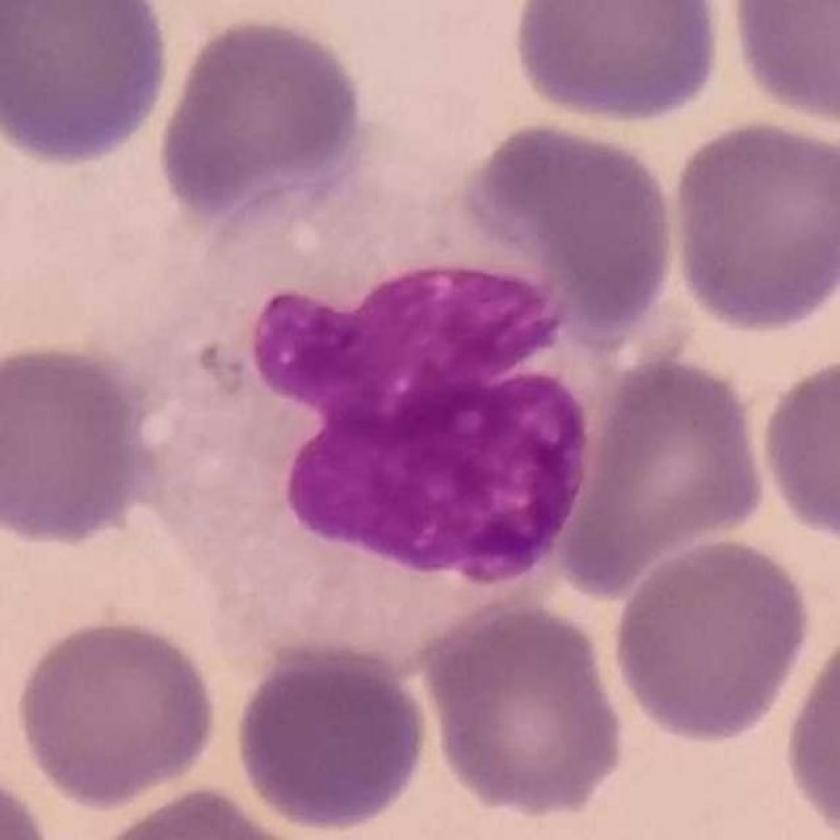monocyte: (127, 169, 618, 672)
